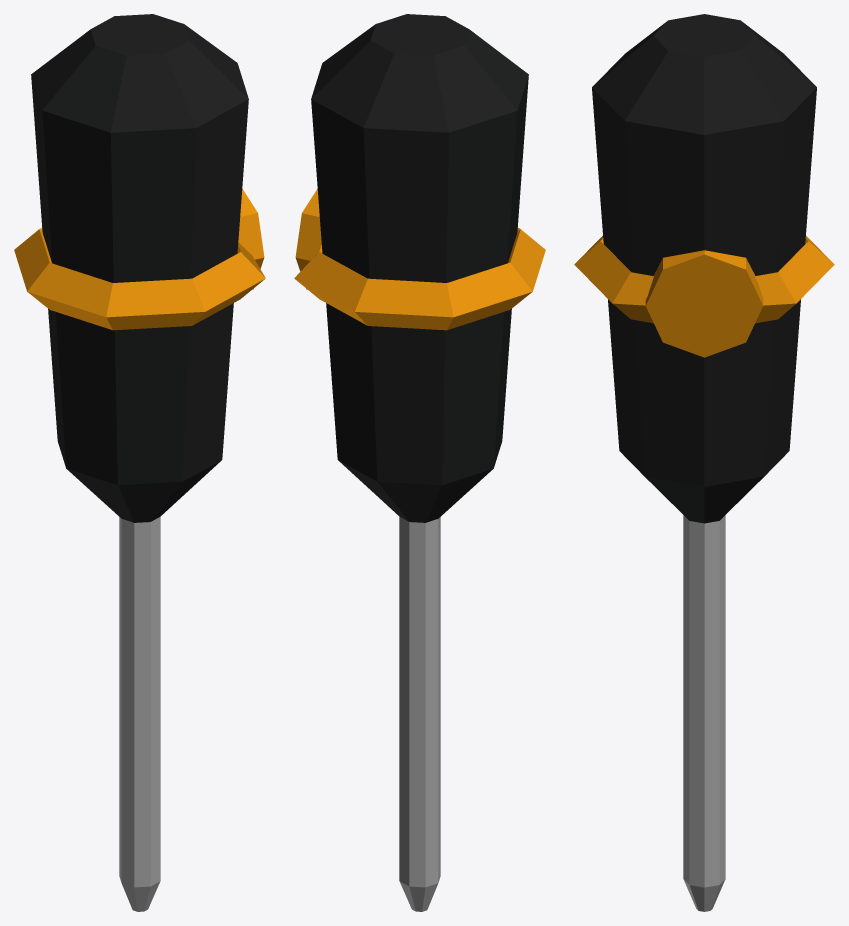
File: screw_driver.gltf
3 renders of one model, left to right at view 1: azimuth 30°, elevation 25°; view 2: azimuth 150°, elevation 25°; view 3: azimuth 270°, elevation 25°, orthographic.
Visible parts, largest first — view 1: Cylinder, Circle; view 2: Cylinder, Circle; view 3: Cylinder, Circle.
Part boxes in pixels (box(x1,y1,x2,y2)): Cylinder: box(31, 14, 248, 911); Circle: box(14, 189, 265, 330); Cylinder: box(311, 14, 528, 911); Circle: box(294, 189, 545, 330); Cylinder: box(592, 14, 816, 911); Circle: box(574, 236, 834, 357).
Size of the model in its own units: 1.94 by 7.66 by 2.07.
